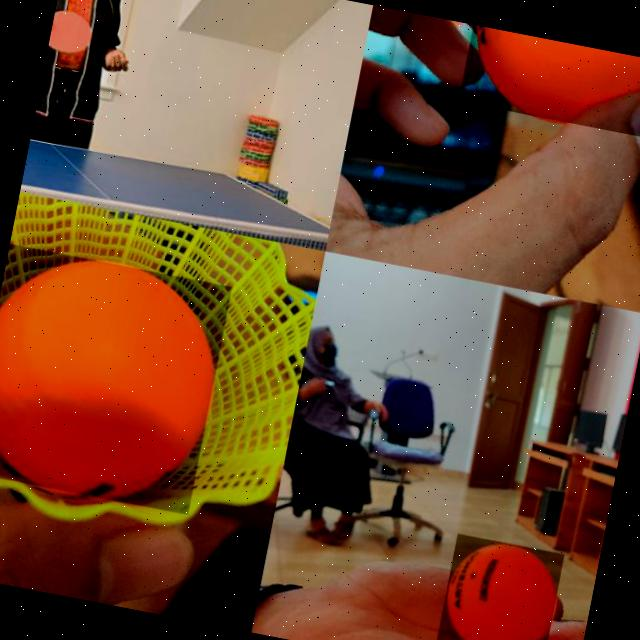ping-pong-ball: (0, 241, 234, 516), (457, 24, 640, 138), (436, 532, 565, 640)
